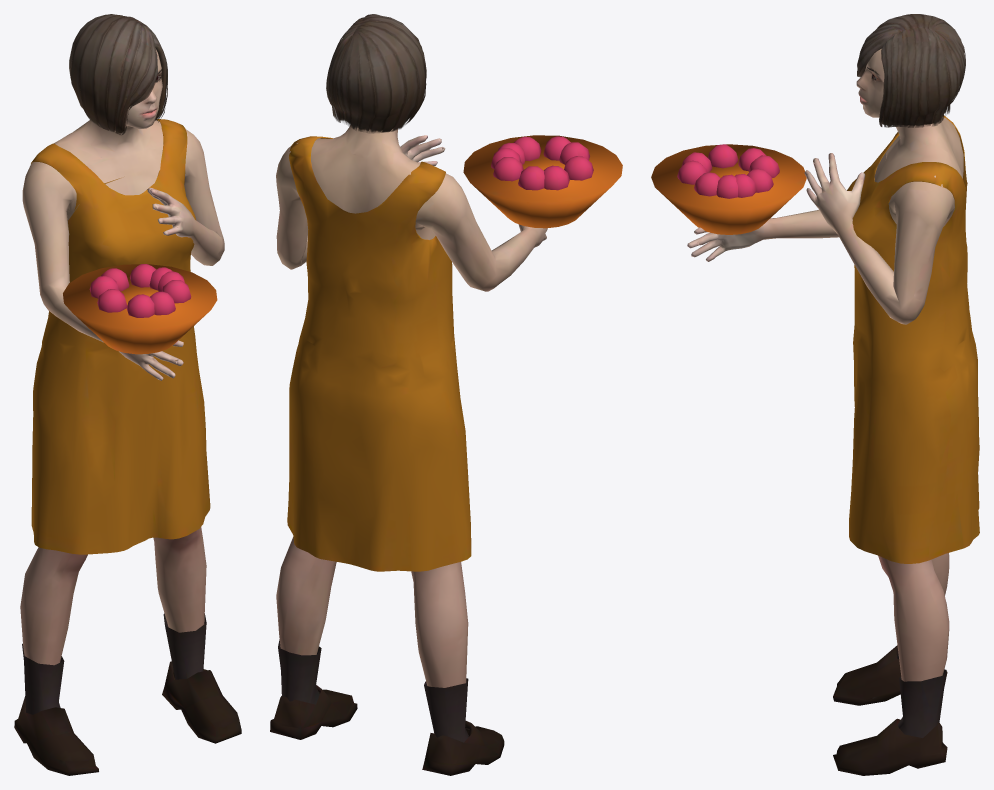
File: mq-mom.glb
3 renders of one model, left to right at view 1: azimuth 30°, elevation 25°; view 2: azimuth 150°, elevation 25°; view 3: azimuth 270°, elevation 25°, orthographic. The views are drawn at different scales.
Visible parts, largest first — view 1: MQ_mom; view 2: MQ_mom; view 3: MQ_mom.
Boxes of the visible parts, bbox=[...] form: MQ_mom: bbox=[14, 14, 241, 775]; MQ_mom: bbox=[270, 14, 622, 775]; MQ_mom: bbox=[651, 14, 979, 775].
Bounding box in the file's own units: 0.5285 × 1.52 × 0.6316.
1 material, 1 textured.
